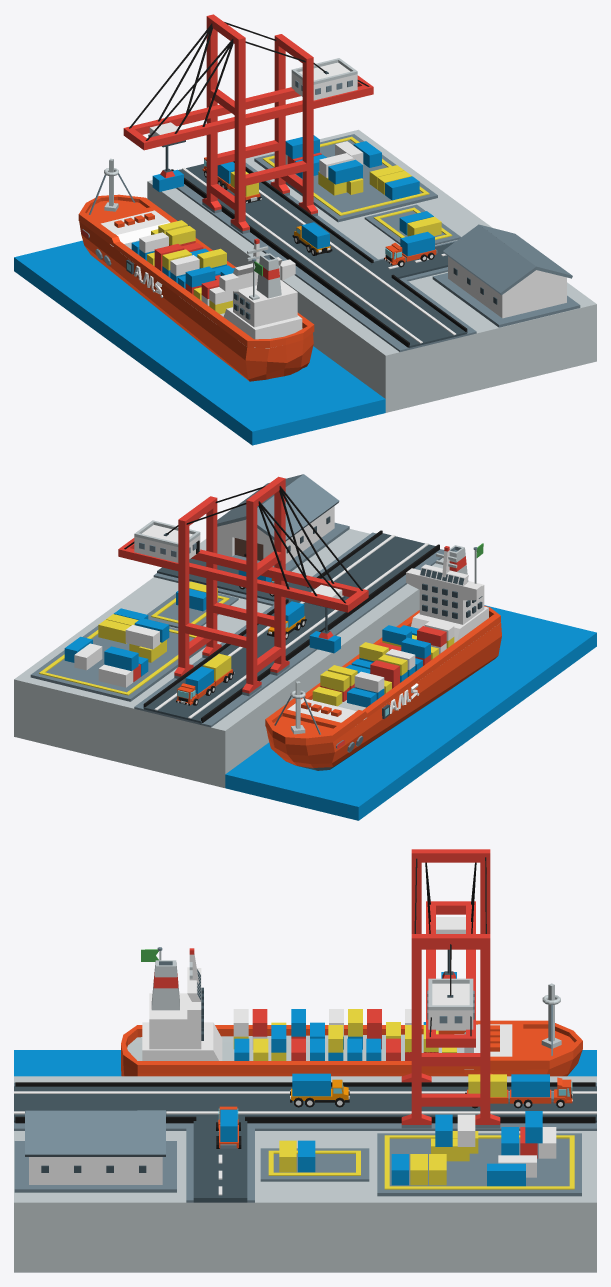
Rendered from Harbor.obj.
3 renders of one model, top to bottom at view 1: azimuth 30°, elevation 25°; view 2: azimuth 150°, elevation 25°; view 3: azimuth 270°, elevation 25°, orthographic. The views are drawn at different scales.
Visible parts, largest first — view 1: group190893547, group1196106066, group147904597, group1126082673, group1692546767, group658744810, group30039753, group741089094, group1237844620, group1441821170, group8403489, group753703270 (+19 smaller); view 2: group190893547, group1196106066, group147904597, group1126082673, group1692546767, group30039753, group741089094, group716664346, group1441821170, group658744810, group1010171320, group1355834799 (+20 smaller); view 3: group190893547, group1196106066, group1126082673, group30039753, group369223564, group1545566040, group147904597, group1692546767, group1355834799, group912731662, group753703270, group2055348084 (+29 smaller).
Part boxes in pixels (bbox=[...]): group190893547: bbox=[147, 129, 596, 412]; group1196106066: bbox=[78, 158, 314, 381]; group147904597: bbox=[14, 240, 385, 445]; group1126082673: bbox=[178, 162, 466, 347]; group1692546767: bbox=[230, 35, 317, 233]; group658744810: bbox=[443, 224, 536, 295]; group30039753: bbox=[254, 134, 437, 222]; group741089094: bbox=[176, 163, 476, 351]; group1237844620: bbox=[140, 84, 373, 150]; group1441821170: bbox=[202, 14, 221, 210]; group8403489: bbox=[291, 58, 357, 100]; group753703270: bbox=[432, 273, 580, 327]; group190893547: bbox=[14, 529, 443, 787]; group1196106066: bbox=[265, 543, 501, 770]; group147904597: bbox=[225, 605, 596, 820]; group1126082673: bbox=[144, 533, 435, 724]; group1692546767: bbox=[202, 476, 289, 675]; group30039753: bbox=[30, 625, 206, 701]; group741089094: bbox=[134, 532, 444, 727]; group716664346: bbox=[118, 546, 352, 612]; group1441821170: bbox=[242, 497, 261, 693]; group658744810: bbox=[257, 474, 339, 541]; group1010171320: bbox=[174, 517, 193, 676]; group1355834799: bbox=[176, 653, 234, 705]; group190893547: bbox=[14, 1076, 596, 1272]; group1196106066: bbox=[121, 947, 582, 1076]; group1126082673: bbox=[14, 1086, 596, 1122]; group30039753: bbox=[377, 1133, 581, 1196]; group369223564: bbox=[25, 1110, 165, 1156]; group1545566040: bbox=[193, 1119, 247, 1202]; group147904597: bbox=[14, 1050, 596, 1076]; group1692546767: bbox=[401, 849, 431, 1128]; group1355834799: bbox=[465, 1074, 572, 1108]; group912731662: bbox=[37, 1161, 153, 1184]; group753703270: bbox=[14, 1141, 176, 1192]; group2055348084: bbox=[260, 1148, 369, 1181].
Size of the model in its own units: 3.9 by 2.71 by 4.67.
